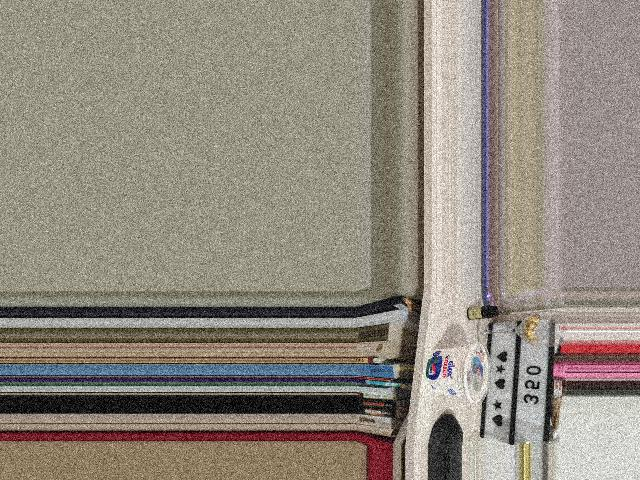cotage: (421, 346, 492, 398)
